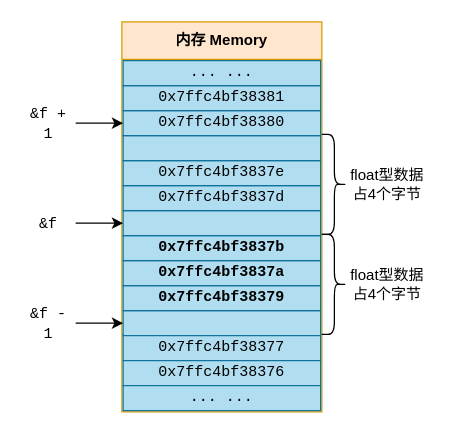
Some shapes in this 449 by 434 pixel diagram are drawn without their labels. Each missing label, with the centre of its shape:
0x7ffc4bf38378: (221,322)
0x7ffc4bf3837c: (221,222)
0x7ffc4bf3837f: (221,147)
